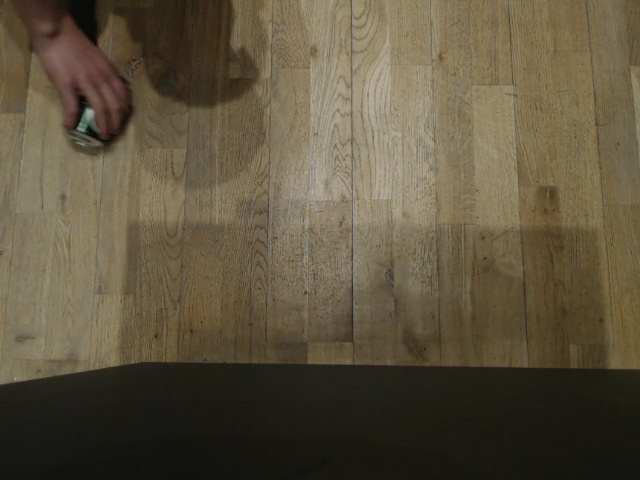beer: (141, 321, 230, 366), (450, 327, 545, 369), (419, 180, 464, 267), (407, 0, 464, 40)
